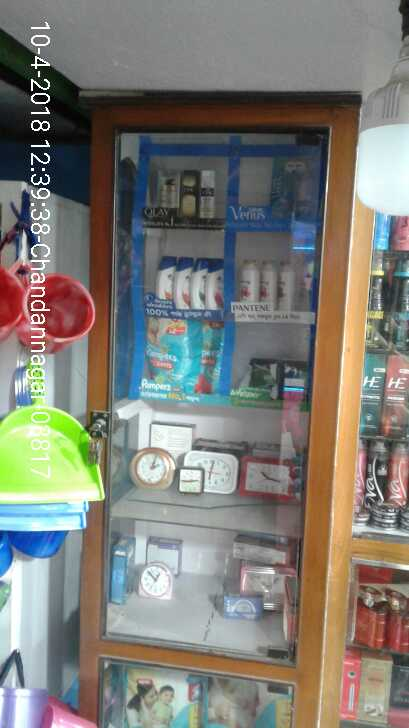venus: (273, 154, 312, 211)
